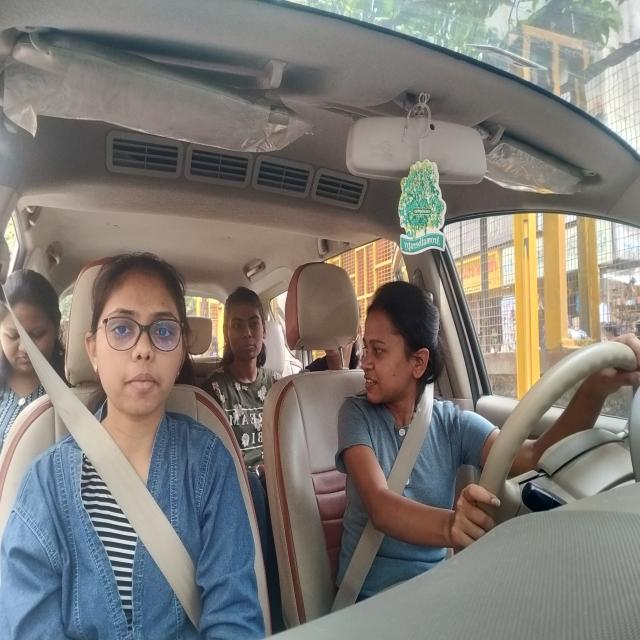LeftRight: (361, 282, 440, 407)
person: (87, 246, 189, 419), (0, 269, 63, 379), (224, 282, 267, 377), (323, 303, 364, 376)
talking: (363, 374, 382, 393)
